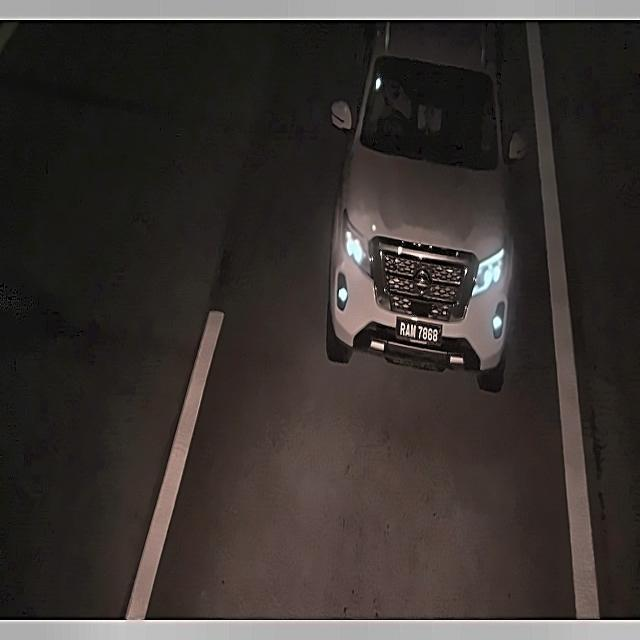car: (398, 316, 442, 349)
